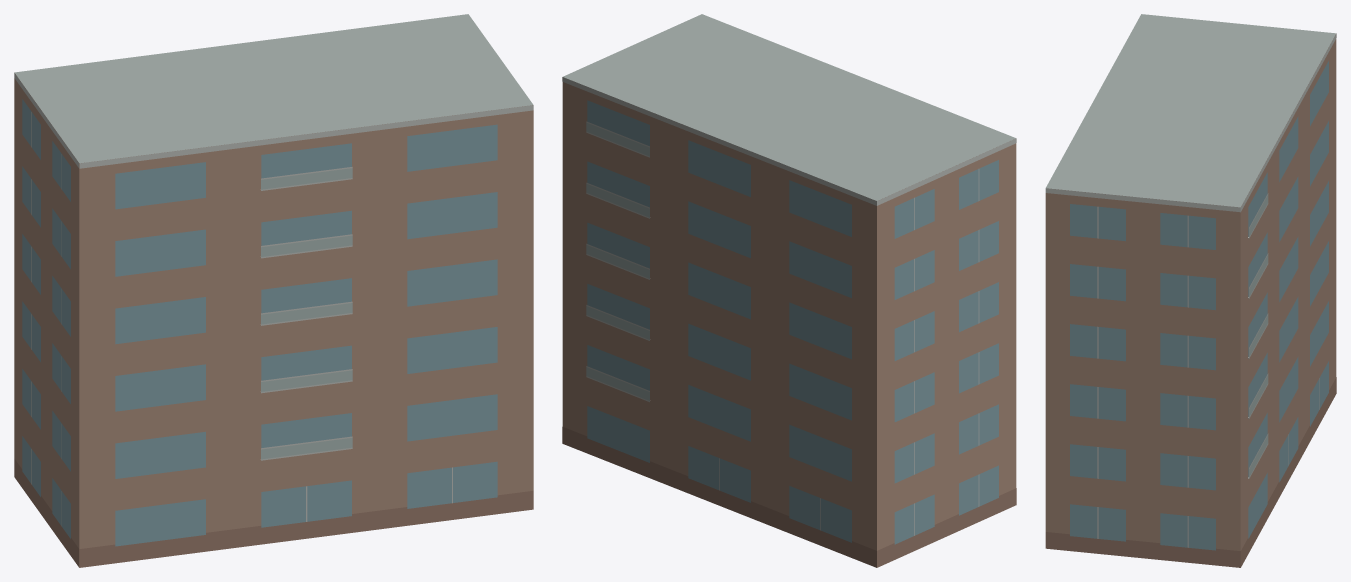
Rendered from survey-upis-32545980.glb.
The picture shows the model from 3 angles, left to right: view 1: azimuth 30°, elevation 25°; view 2: azimuth 150°, elevation 25°; view 3: azimuth 270°, elevation 25°; orthographic projection. The views are drawn at different scales.
Parts seen in each view (by area): view 1: survey-upis-32545980.tmp; view 2: survey-upis-32545980.tmp; view 3: survey-upis-32545980.tmp.
Part boxes in pixels (<box>): survey-upis-32545980.tmp: <box>14,14,533,567</box>; survey-upis-32545980.tmp: <box>562,14,1016,567</box>; survey-upis-32545980.tmp: <box>1045,14,1336,567</box>.
Bounding box in the file's own units: 21.07 × 18.3 × 13.39.
